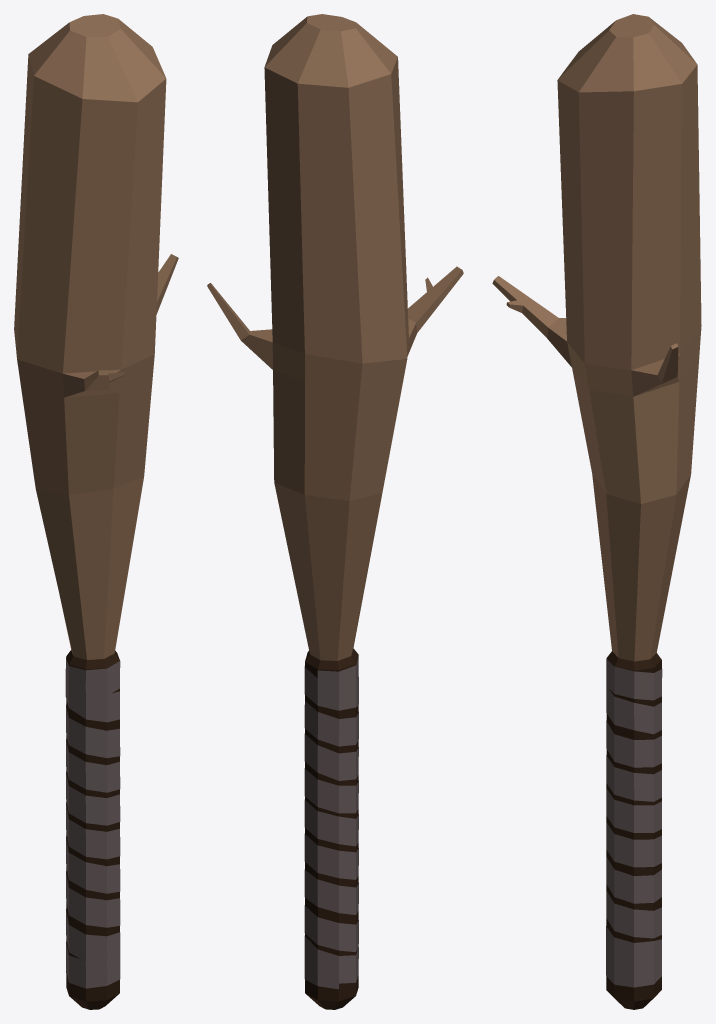
The model's file is CLUB.fbx.
3 renders of one model, left to right at view 1: azimuth 30°, elevation 25°; view 2: azimuth 150°, elevation 25°; view 3: azimuth 270°, elevation 25°, orthographic.
Parts seen in each view (by area): view 1: Cylinder, Plane; view 2: Cylinder, Plane; view 3: Cylinder, Plane.
Part boxes in pixels (left/top/right/bottom): Cylinder: left=14, top=14, right=178, bottom=1009; Plane: left=65, top=653, right=120, bottom=988; Cylinder: left=207, top=14, right=463, bottom=1009; Plane: left=304, top=656, right=358, bottom=989; Cylinder: left=492, top=14, right=701, bottom=1009; Plane: left=606, top=659, right=662, bottom=987.
Bounding box in the file's own units: 178 × 921 × 178.
